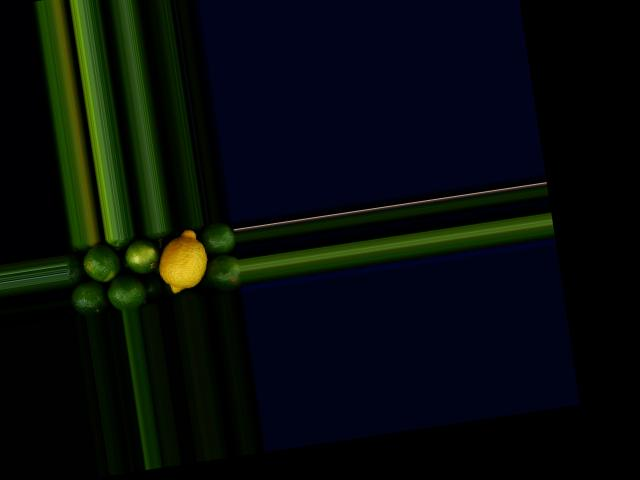lemon: (152, 228, 212, 296)
